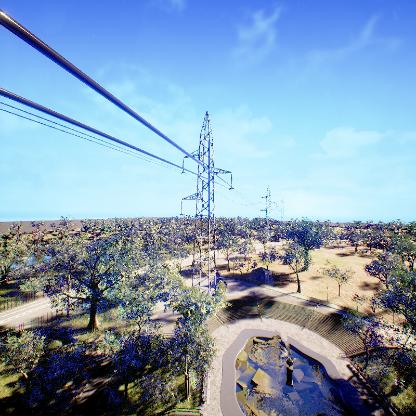tower: (180, 112, 235, 301)
